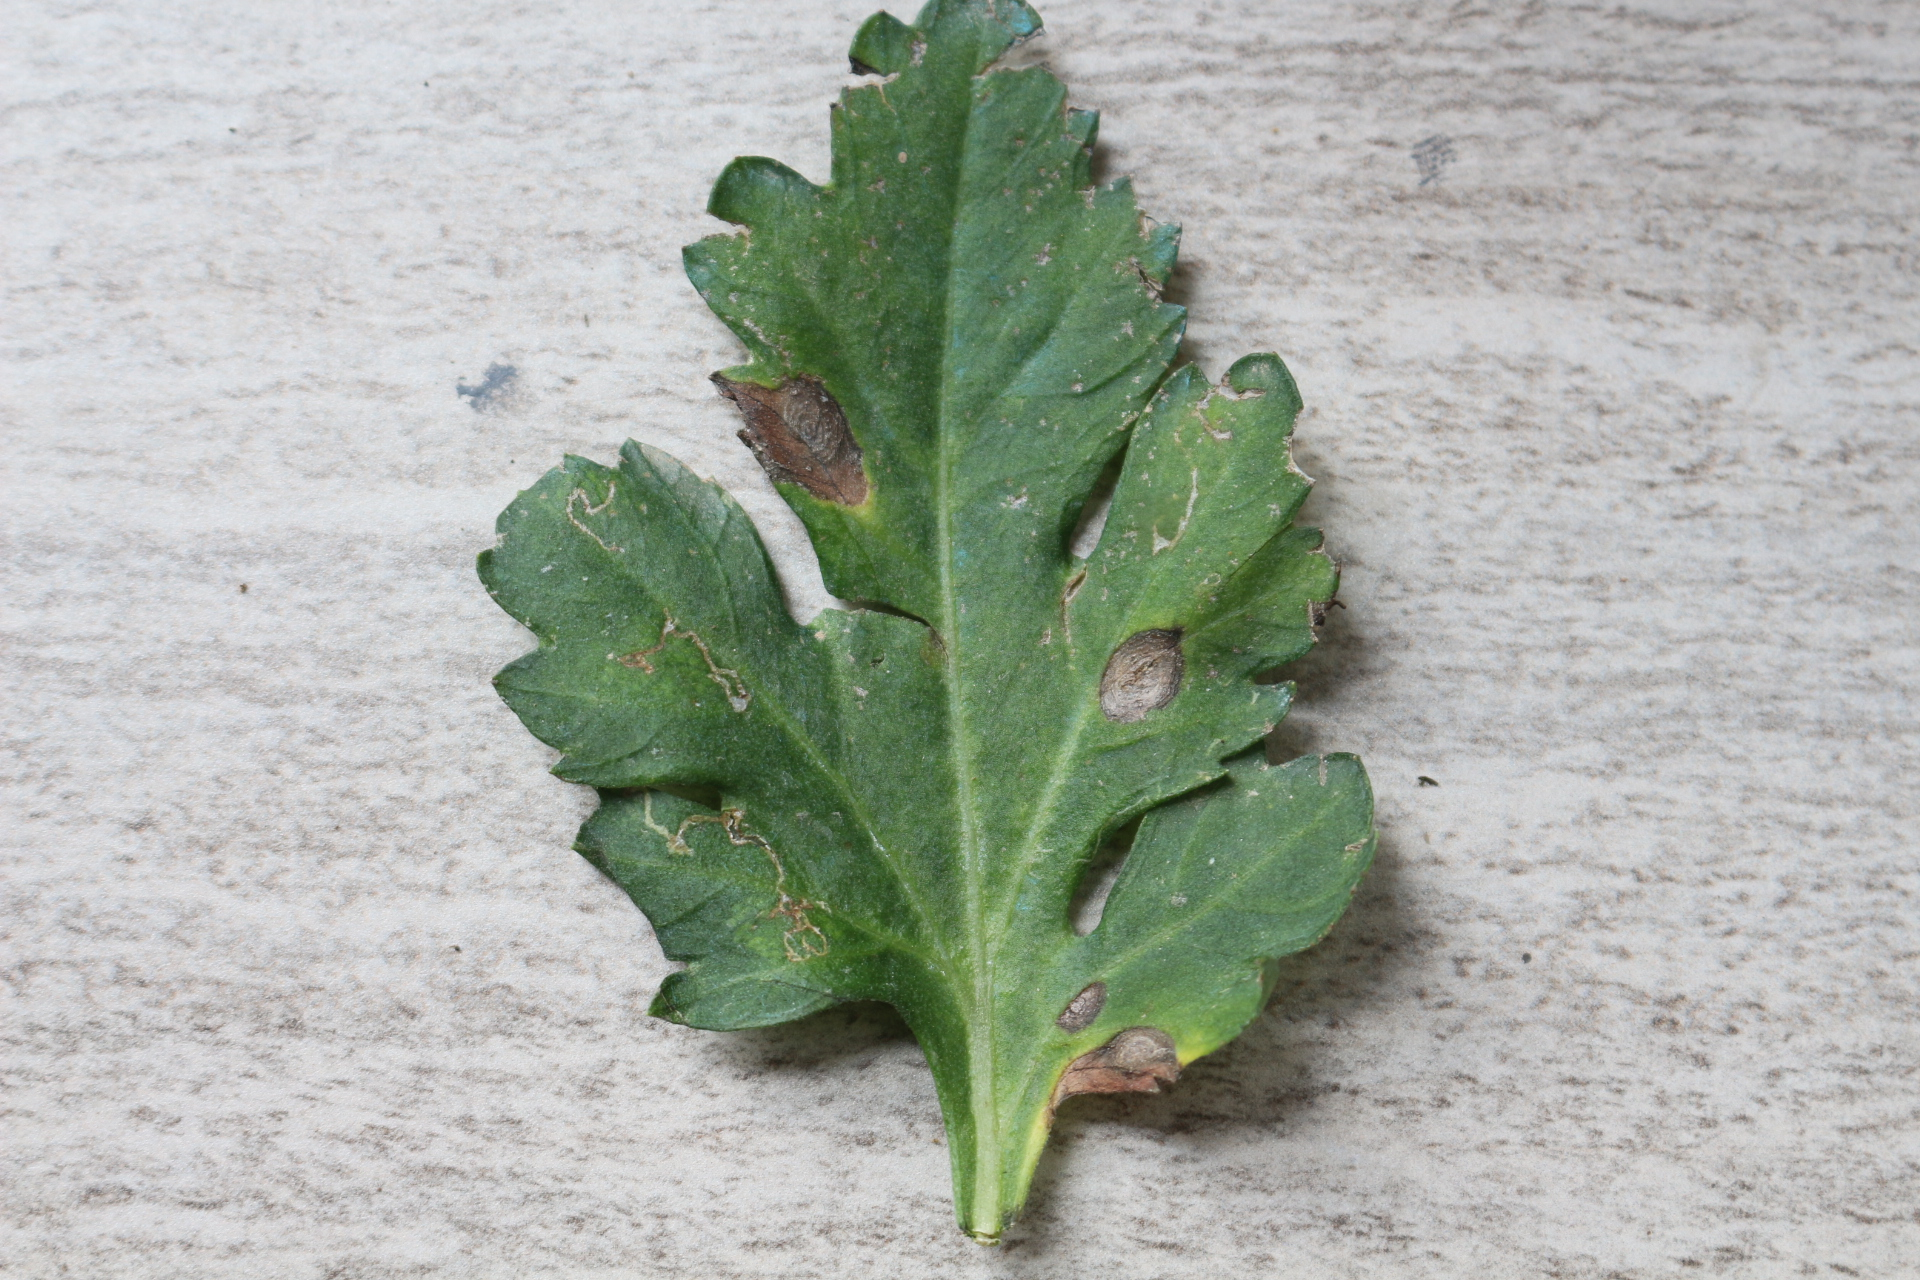namden: (739, 371, 876, 503), (1050, 1029, 1184, 1111), (1094, 621, 1184, 729), (1059, 986, 1109, 1031)
